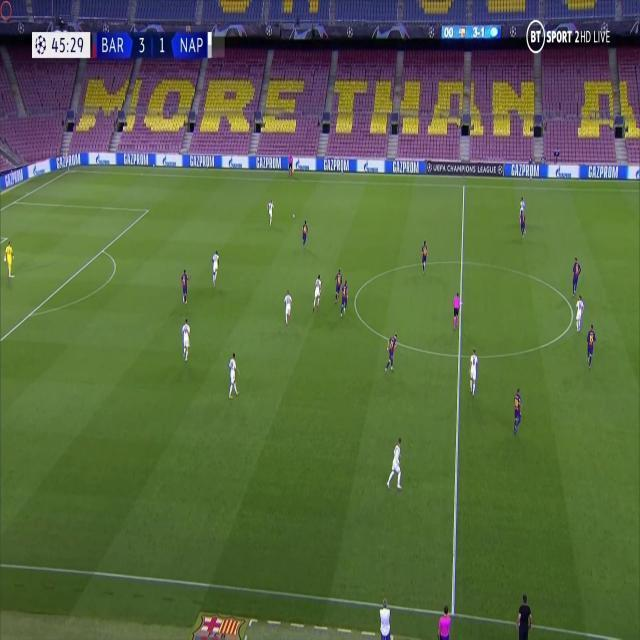ball: (292, 211, 296, 218)
goalkeeper: (4, 239, 15, 280)
player: (386, 437, 404, 492), (227, 350, 241, 399), (585, 322, 598, 370), (468, 346, 480, 396), (511, 386, 523, 435), (384, 331, 397, 372), (570, 256, 582, 296), (181, 315, 191, 363), (574, 293, 586, 332), (179, 267, 191, 305), (312, 272, 323, 313), (282, 286, 293, 325), (333, 267, 343, 308), (518, 193, 527, 238), (211, 247, 221, 286), (341, 278, 349, 317), (420, 238, 428, 273), (266, 196, 275, 226), (301, 218, 309, 248)
referee: (433, 599, 456, 640), (451, 290, 461, 331), (288, 151, 295, 179)
